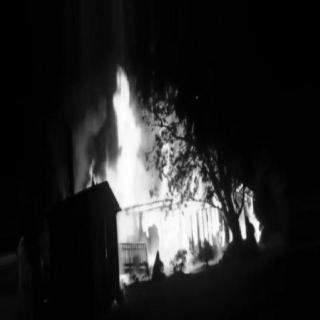Fire: (78, 43, 266, 291)
